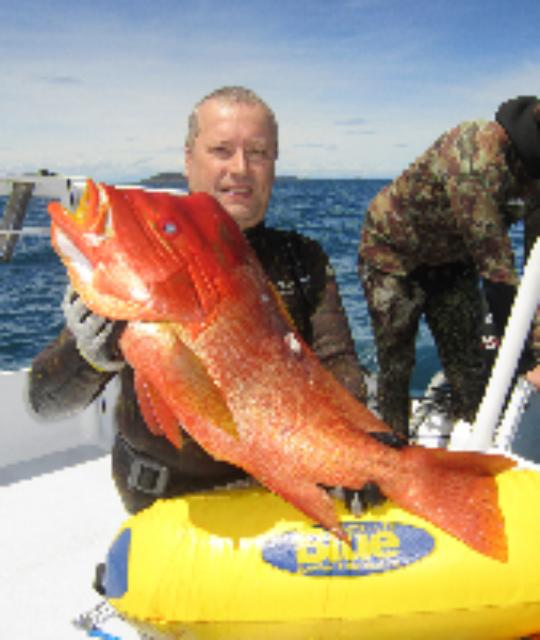Mulut: (31, 168, 131, 260)
Sirip Anal: (254, 461, 358, 557)
Sirip Dada: (155, 330, 249, 442)
Sirip Ekor: (406, 434, 530, 570)
Sirip Perut: (120, 366, 192, 462)
